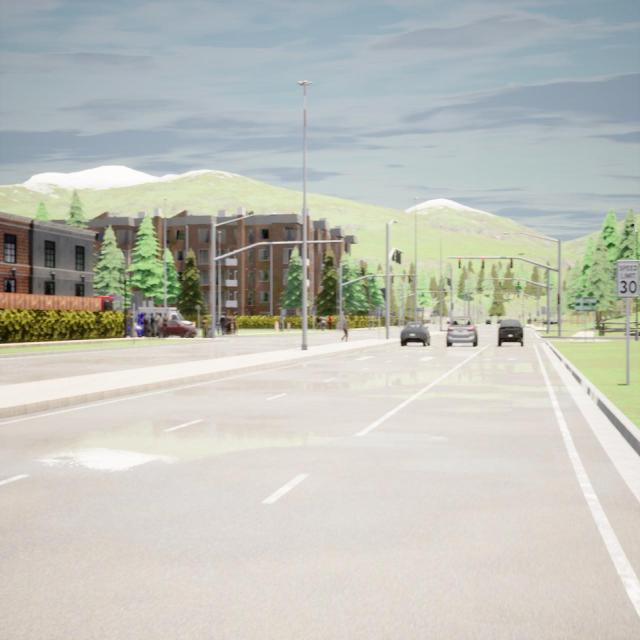Pedestrian: (154, 312, 163, 339), (163, 311, 170, 338), (341, 316, 348, 341), (201, 313, 208, 338), (149, 311, 155, 337), (220, 310, 226, 336), (320, 314, 326, 331), (227, 319, 232, 334), (233, 318, 237, 334), (316, 315, 320, 330), (328, 314, 332, 329)
Traffic_Signs: (616, 260, 640, 298), (575, 297, 597, 310), (280, 309, 286, 316)
Vehicle: (446, 316, 478, 347), (138, 307, 193, 325), (401, 321, 430, 346), (158, 320, 196, 338), (498, 320, 523, 347), (127, 323, 143, 338), (486, 319, 492, 325)
traffic_light: (556, 293, 560, 304), (458, 258, 461, 269), (397, 253, 400, 264), (510, 258, 513, 268), (392, 254, 395, 261), (482, 258, 484, 268)
